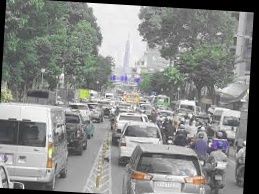Bien-so: (155, 180, 182, 189), (214, 173, 223, 180)
